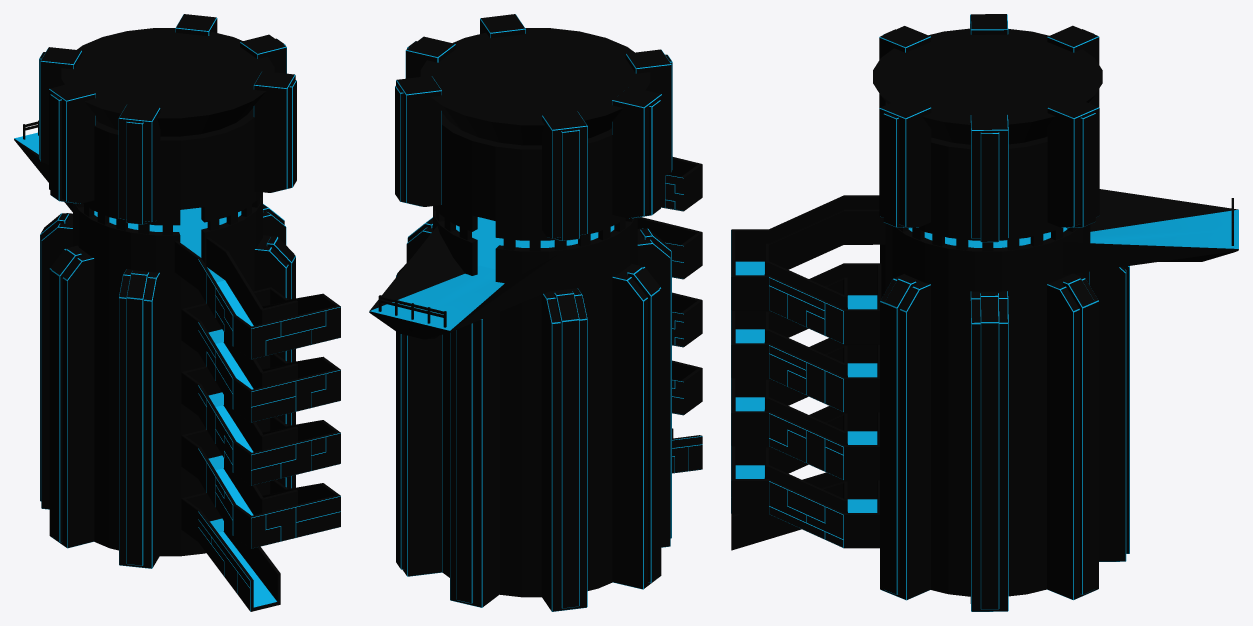
Rendered from Building_04.fbx.
3 renders of one model, left to right at view 1: azimuth 30°, elevation 25°; view 2: azimuth 150°, elevation 25°; view 3: azimuth 270°, elevation 25°, orthographic. The views are drawn at different scales.
Parts seen in each view (by area): view 1: Building_04_Details, Building_04_Base, Building_04_Stairs, Building_04_Platform; view 2: Building_04_Details, Building_04_Base, Building_04_Platform, Building_04_Stairs; view 3: Building_04_Details, Building_04_Base, Building_04_Stairs, Building_04_Platform.
Boxes of the visible parts, x1,y1,x2,y2 form: Building_04_Details: (39, 14, 296, 568); Building_04_Base: (61, 28, 274, 556); Building_04_Stairs: (174, 237, 340, 611); Building_04_Platform: (14, 120, 72, 211); Building_04_Details: (395, 14, 672, 611); Building_04_Base: (420, 28, 650, 597); Building_04_Platform: (369, 226, 557, 339); Building_04_Stairs: (637, 157, 702, 473); Building_04_Details: (879, 14, 1129, 611); Building_04_Base: (873, 28, 1102, 596); Building_04_Stairs: (731, 195, 885, 550); Building_04_Platform: (1063, 189, 1238, 274).
Bounding box in the file's own units: 831 × 1563 × 1491.
